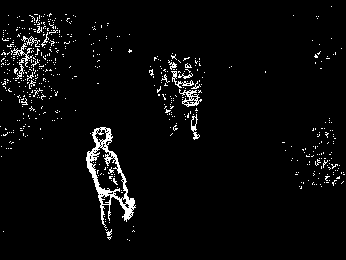person: (84, 125, 138, 240), (177, 68, 201, 142)
